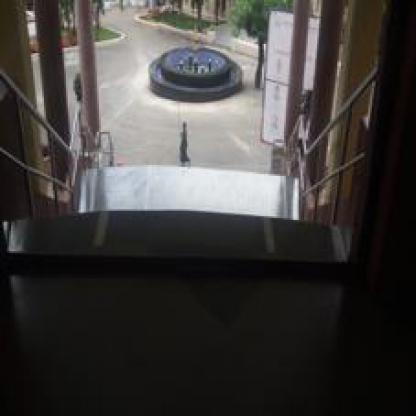stair_down: (90, 181, 278, 253)
